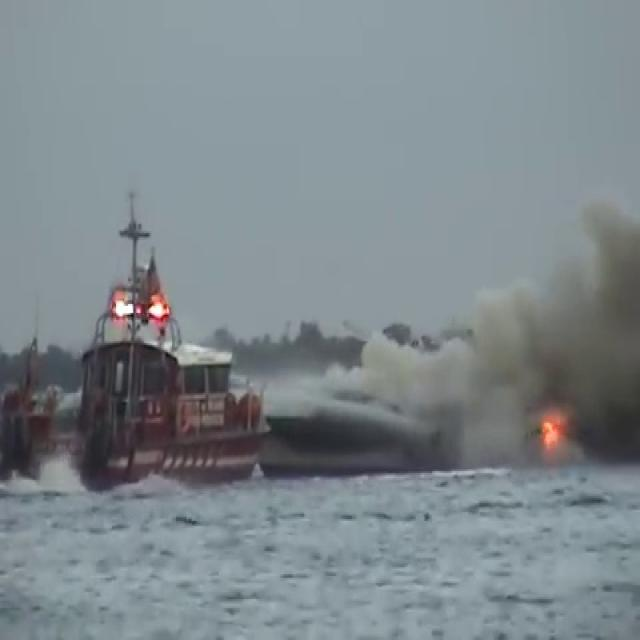Fire: (532, 402, 572, 448)
Smoke: (378, 201, 640, 458)
